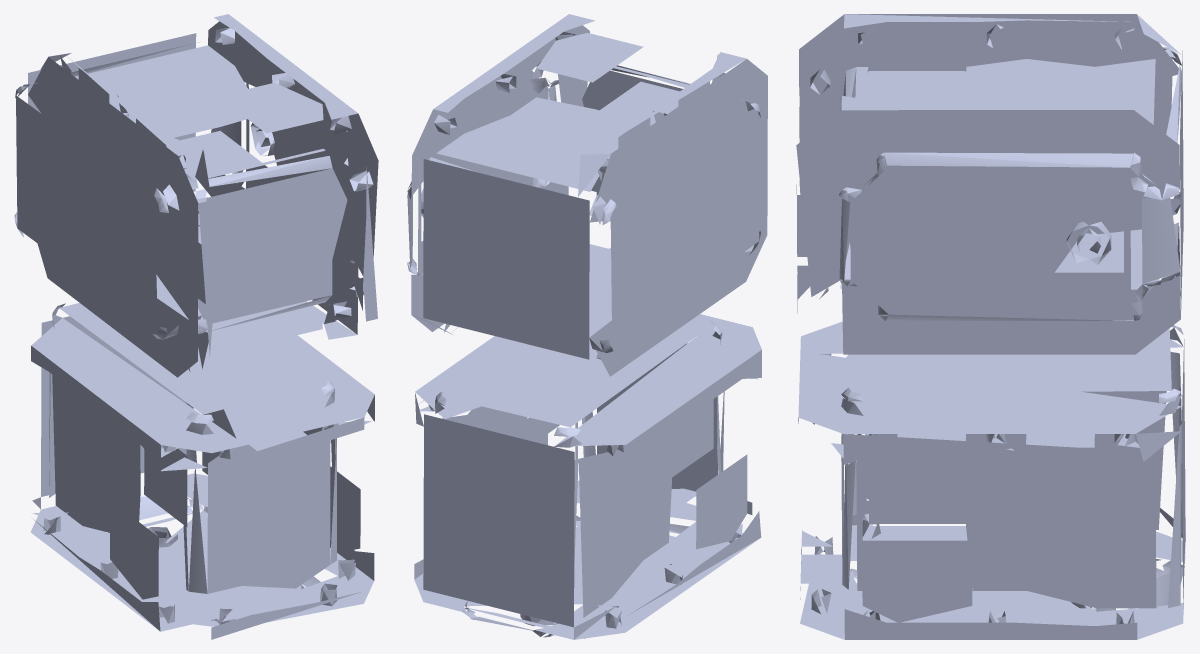
File: part_18_opt.obj
3 renders of one model, left to right at view 1: azimuth 30°, elevation 25°; view 2: azimuth 150°, elevation 25°; view 3: azimuth 270°, elevation 25°, orthographic. The views are drawn at different scales.
Parts seen in each view (by area): view 1: NONE_DC_Shell; view 2: NONE_DC_Shell; view 3: NONE_DC_Shell.
Boxes of the visible parts, x1=… form: NONE_DC_Shell: x1=14, y1=14, x2=378, y2=639; NONE_DC_Shell: x1=407, y1=14, x2=767, y2=639; NONE_DC_Shell: x1=796, y1=14, x2=1185, y2=639.
Bounding box in the file's own units: 37.43 × 80.11 × 51.38.
